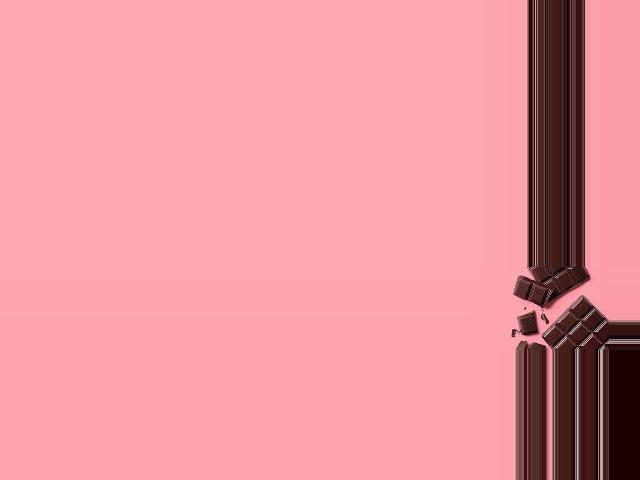chocolate: (519, 271, 610, 349)
